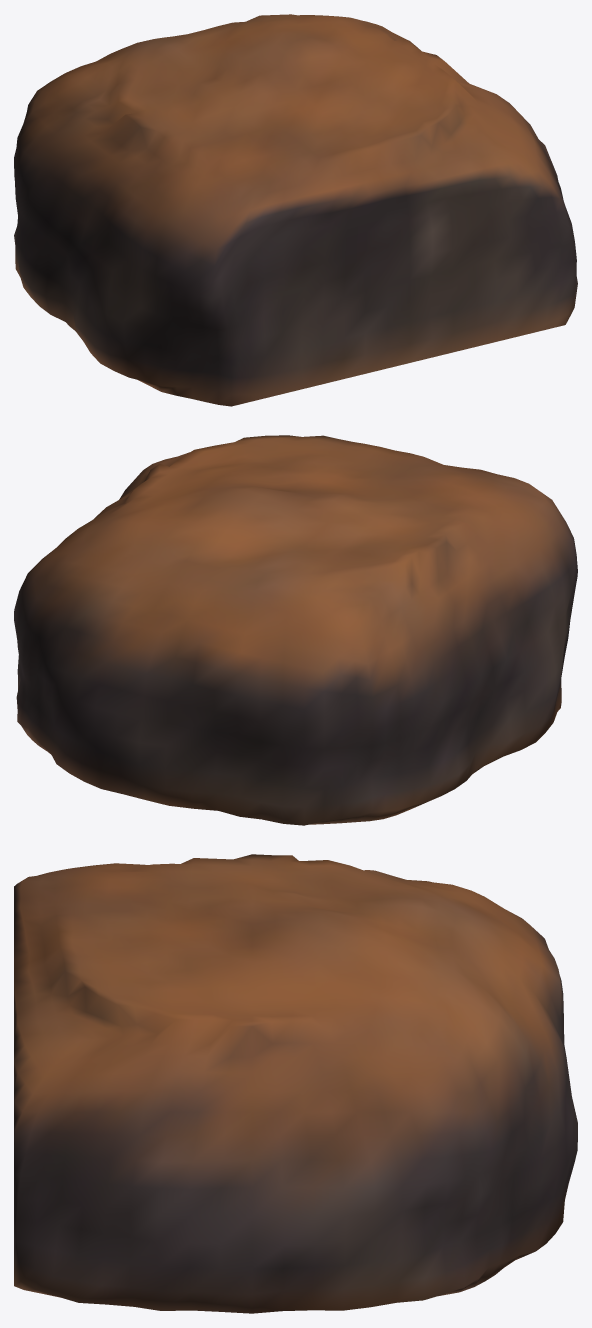
Rendered from half-dome.glb.
3 renders of one model, top to bottom at view 1: azimuth 30°, elevation 25°; view 2: azimuth 150°, elevation 25°; view 3: azimuth 270°, elevation 25°, orthographic. The views are drawn at different scales.
Parts seen in each view (by area): view 1: cover-half-dome; view 2: cover-half-dome; view 3: cover-half-dome.
Part boxes in pixels (x1,y1,x2,y2): cover-half-dome: [14, 14, 577, 406]; cover-half-dome: [14, 435, 577, 825]; cover-half-dome: [14, 854, 577, 1313].
Bounding box in the file's own units: 0.252 × 0.12 × 0.2273.
